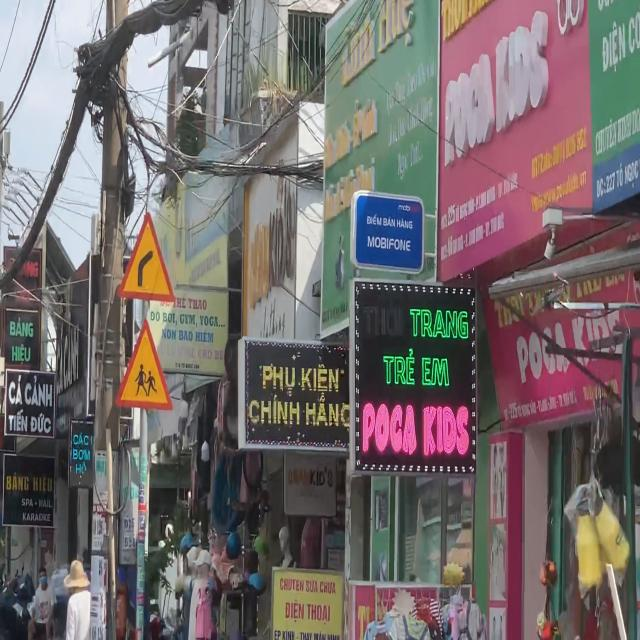Nguy hiem: (114, 317, 174, 412), (116, 210, 176, 304)
